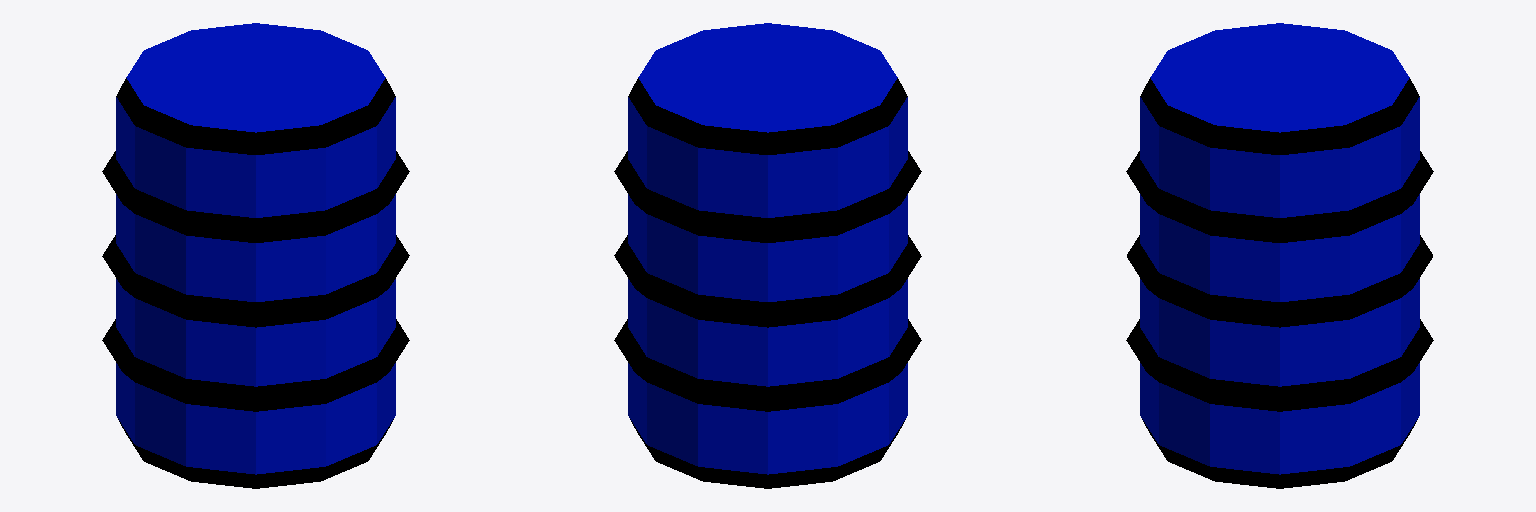
The model's file is Barrel.obj.
The picture shows the model from 3 angles: view 1: azimuth 30°, elevation 25°; view 2: azimuth 150°, elevation 25°; view 3: azimuth 270°, elevation 25°; orthographic projection.
Parts seen in each view (by area): view 1: Barrel_Debris_Cylinder; view 2: Barrel_Debris_Cylinder; view 3: Barrel_Debris_Cylinder.
Part boxes in pixels (x1,y1,x2,y2): Barrel_Debris_Cylinder: (102,23,409,488); Barrel_Debris_Cylinder: (614,23,921,488); Barrel_Debris_Cylinder: (1126,23,1433,488).
Size of the model in its own units: 1.66 by 2.12 by 1.66.